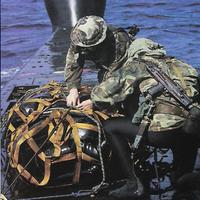knife: (130, 89, 157, 161)
